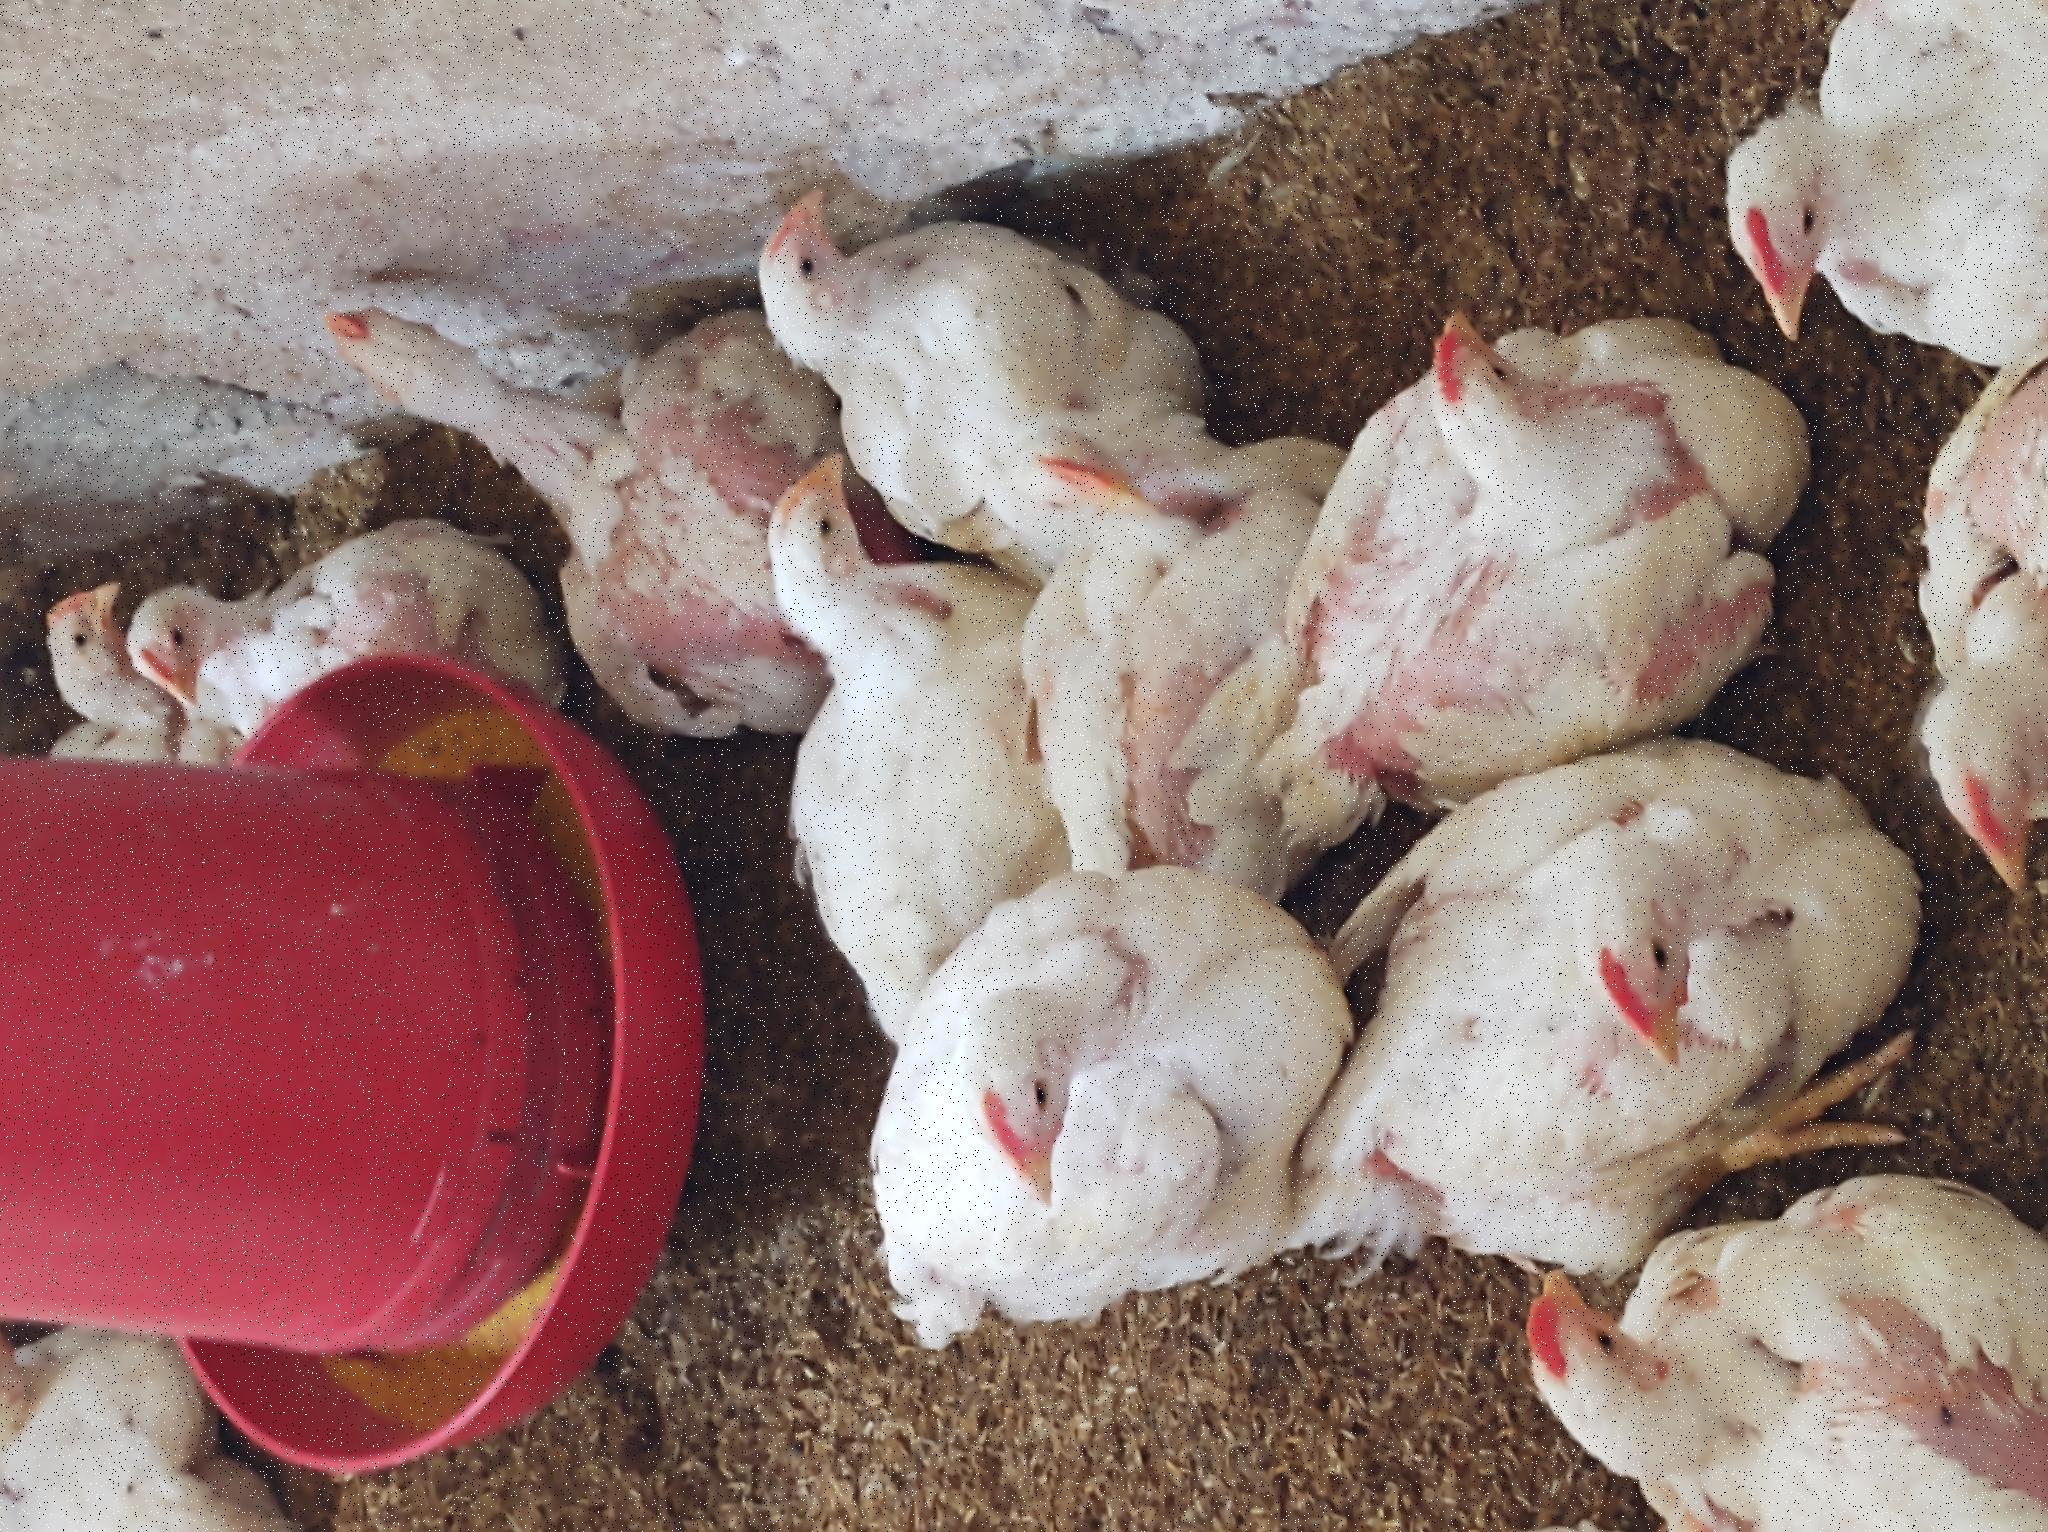Pollos: (98, 855, 672, 1326), (788, 320, 1247, 732), (650, 998, 1162, 1344), (457, 737, 1067, 998), (735, 1241, 1239, 1532), (299, 1321, 798, 1532), (1063, 756, 1400, 1040), (2, 2, 259, 298), (780, 113, 1014, 431), (767, 19, 965, 117)
